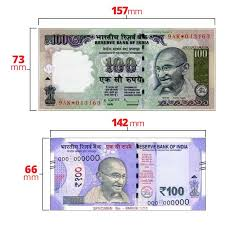hundred: (56, 149, 192, 199)
